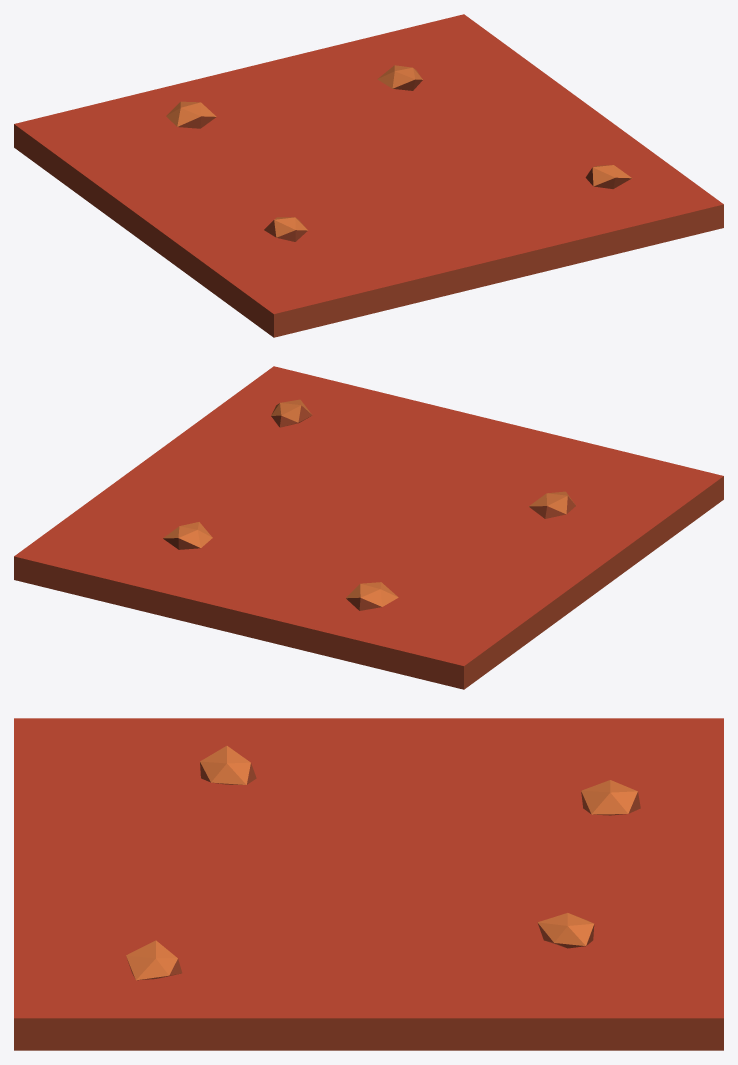
File: CA_Suelo_Fondo_10.obj
3 renders of one model, top to bottom at view 1: azimuth 30°, elevation 25°; view 2: azimuth 150°, elevation 25°; view 3: azimuth 270°, elevation 25°, orthographic. The views are drawn at different scales.
Parts seen in each view (by area): view 1: CA_Suelo_Fondo_10; view 2: CA_Suelo_Fondo_10; view 3: CA_Suelo_Fondo_10.
Part boxes in pixels (left/top/right/bottom): CA_Suelo_Fondo_10: left=14, top=14, right=723, bottom=337; CA_Suelo_Fondo_10: left=14, top=366, right=723, bottom=689; CA_Suelo_Fondo_10: left=14, top=718, right=723, bottom=1050.
Bounding box in the file's own units: 10 × 0.8915 × 10.
